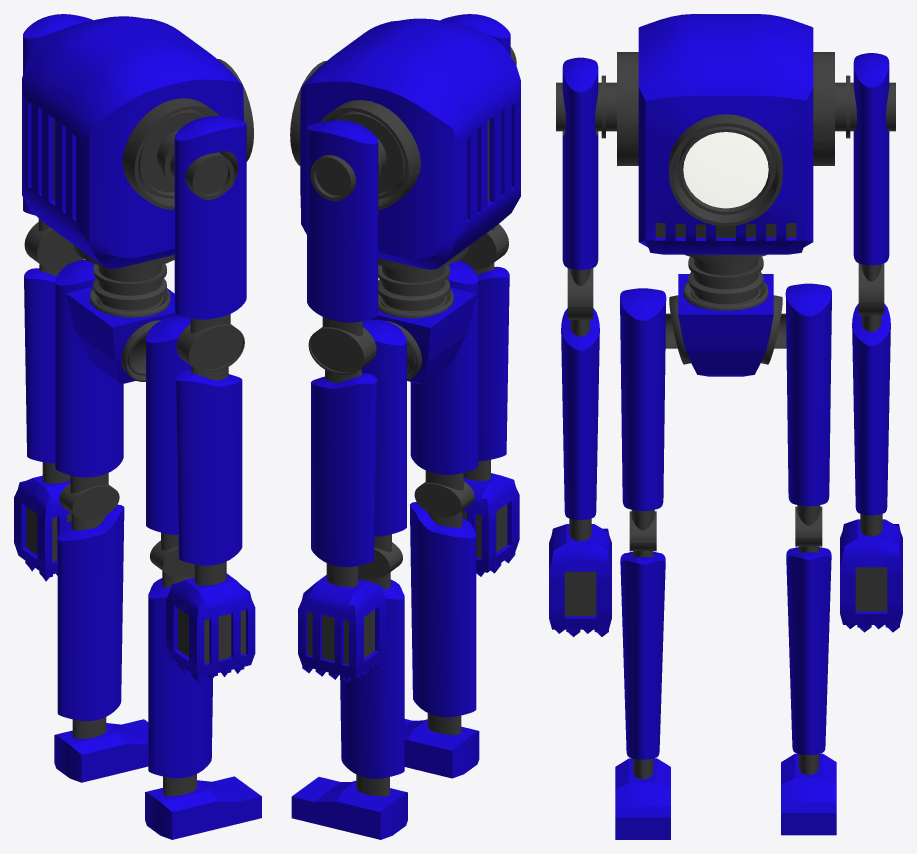
File: BrawlBot3.fbx
3 views of the same model, side by side, from view 1: azimuth 30°, elevation 25°; view 2: azimuth 150°, elevation 25°; view 3: azimuth 270°, elevation 25° (orthographic). The views are drawn at different scales.
Visible parts, largest first — view 1: Head, ArmR, ForelegL, ForearmR, LegL, ForelegR, HandR, LegR, ForearmL, Hips, FootR, HandL (+3 smaller); view 2: Head, ArmL, ForelegR, ForearmL, LegR, ForelegL, HandL, LegL, ForearmR, FootL, Hips, HandR (+3 smaller); view 3: Head, LegL, LegR, ArmR, ArmL, Hips, ForelegL, ForelegR, ForearmL, ForearmR, HandR, HandL (+3 smaller).
Part boxes in pixels (box(x1,y1,x2,y2)): Head: box(22, 16, 253, 268); ArmR: box(174, 116, 246, 372); ForelegL: box(57, 504, 124, 738); ForearmR: box(176, 366, 242, 565); LegL: box(55, 259, 123, 519); ForelegR: box(148, 571, 212, 796); HandR: box(166, 561, 255, 683); LegR: box(146, 316, 194, 577); ForearmL: box(24, 264, 60, 463); Hips: box(66, 287, 182, 383); FootR: box(145, 776, 261, 839); HandL: box(14, 462, 71, 581); Head: box(290, 18, 520, 269); ArmL: box(307, 120, 378, 375); ForelegR: box(410, 502, 476, 734); ForearmL: box(311, 369, 377, 567); LegR: box(410, 260, 478, 517); ForelegL: box(340, 572, 404, 796); HandL: box(298, 563, 386, 682); LegL: box(358, 319, 406, 578); ForearmR: box(473, 263, 509, 461); FootL: box(291, 777, 407, 839); Hips: box(369, 287, 476, 383); HandR: box(462, 459, 519, 576); Head: box(556, 14, 895, 262); LegL: box(785, 283, 831, 546); LegR: box(620, 288, 666, 551); ArmR: box(562, 57, 598, 319); ArmL: box(853, 53, 889, 315); Hips: box(665, 274, 786, 376); ForelegL: box(786, 546, 831, 774); ForelegR: box(620, 550, 665, 779); ForearmL: box(852, 303, 890, 515); ForearmR: box(561, 308, 599, 520); HandR: box(549, 518, 611, 636); HandL: box(840, 514, 902, 632).
Size of the model in its own units: 235 by 406 by 981.
